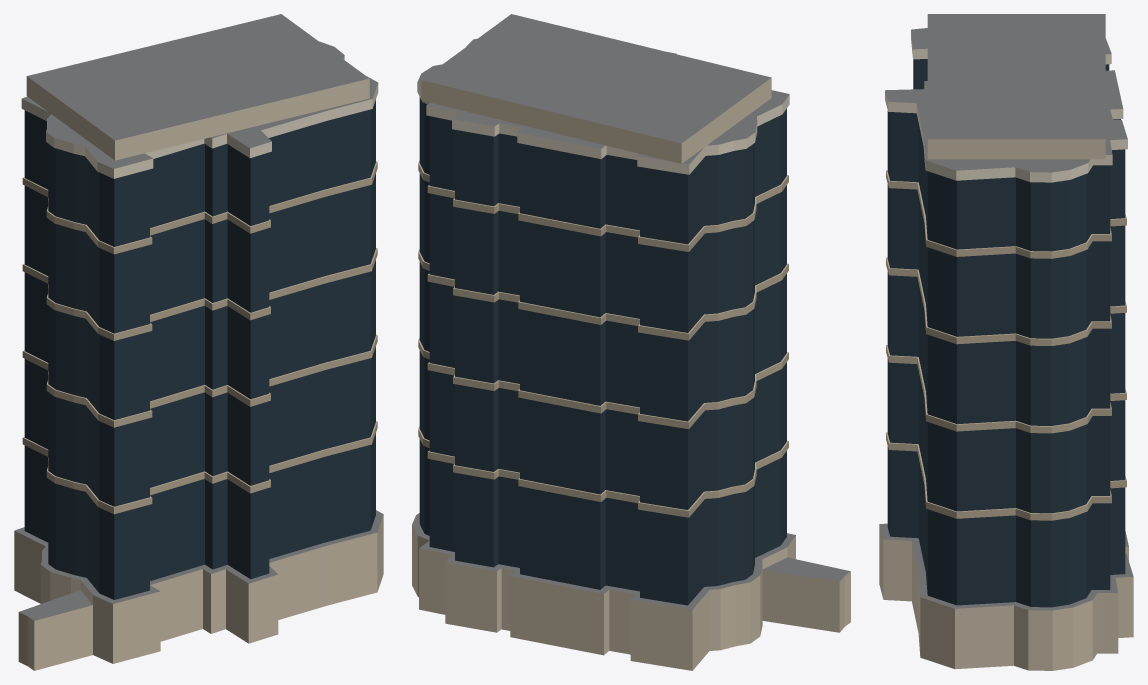
The model's file is bldg_w182464631.glb.
The picture shows the model from 3 angles, left to right: view 1: azimuth 30°, elevation 25°; view 2: azimuth 150°, elevation 25°; view 3: azimuth 270°, elevation 25°; orthographic projection. The views are drawn at different scales.
Visible parts, largest first — view 1: Bldg_w182464631; view 2: Bldg_w182464631; view 3: Bldg_w182464631.
Boxes of the visible parts, box(x1,y1,x2,y2) form: Bldg_w182464631: box(14, 14, 383, 670); Bldg_w182464631: box(412, 14, 850, 670); Bldg_w182464631: box(879, 14, 1133, 670).
Bounding box in the file's own units: 57.68 × 76.9 × 34.32.
